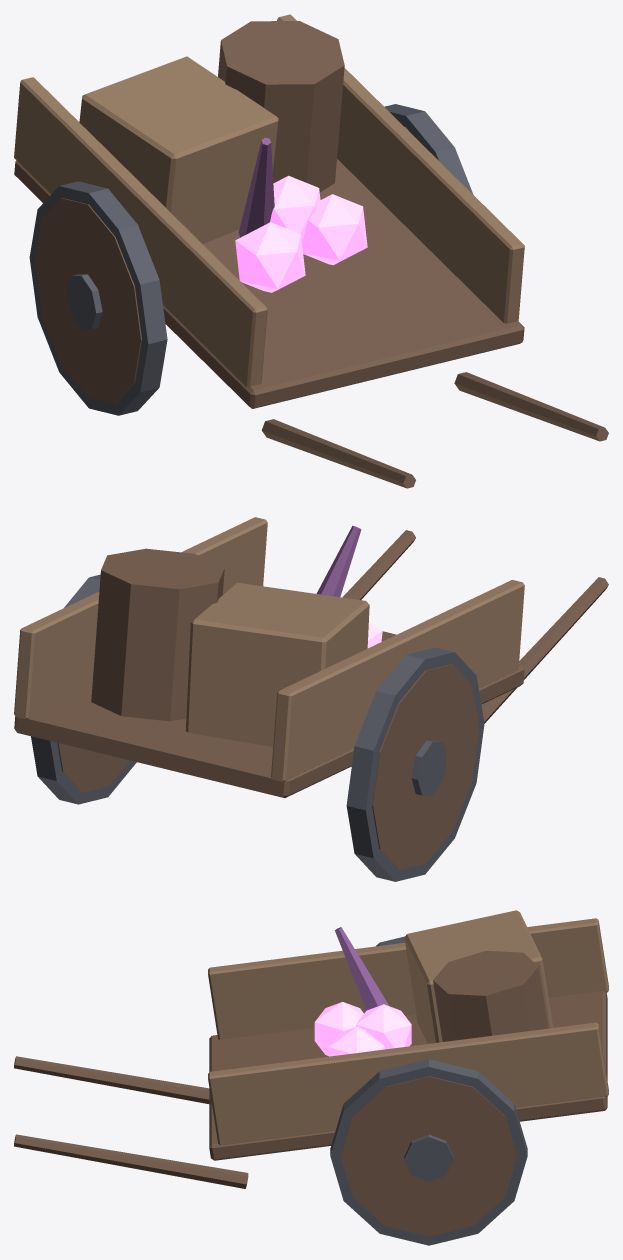
The model's file is outdoor_cart.glb.
3 views of the same model, one above another, from view 1: azimuth 30°, elevation 25°; view 2: azimuth 150°, elevation 25°; view 3: azimuth 270°, elevation 25° (orthographic). The views are drawn at different scales.
Parts seen in each view (by area): view 1: Outdoor_Cart; view 2: Outdoor_Cart; view 3: Outdoor_Cart.
Part boxes in pixels (x1,y1,x2,y2): Outdoor_Cart: (14,14,608,488); Outdoor_Cart: (14,517,608,881); Outdoor_Cart: (14,910,608,1245).
Size of the model in its own units: 2.33 by 1.79 by 4.11.
